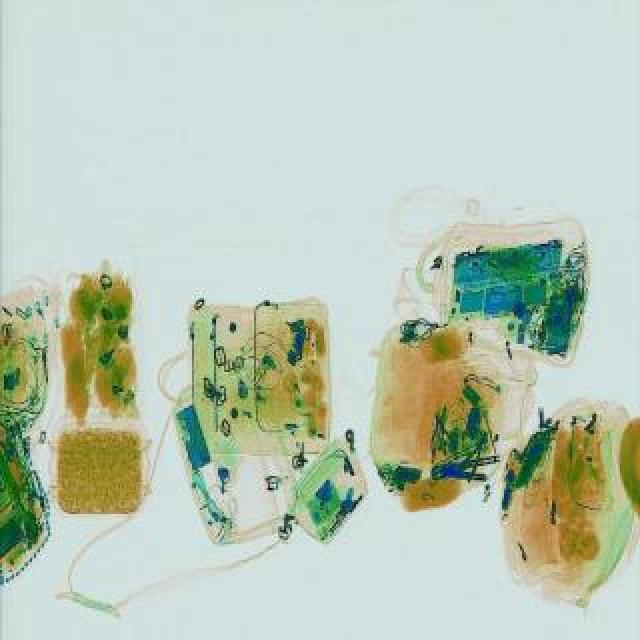wrench: (454, 428, 494, 480), (422, 408, 458, 460)
